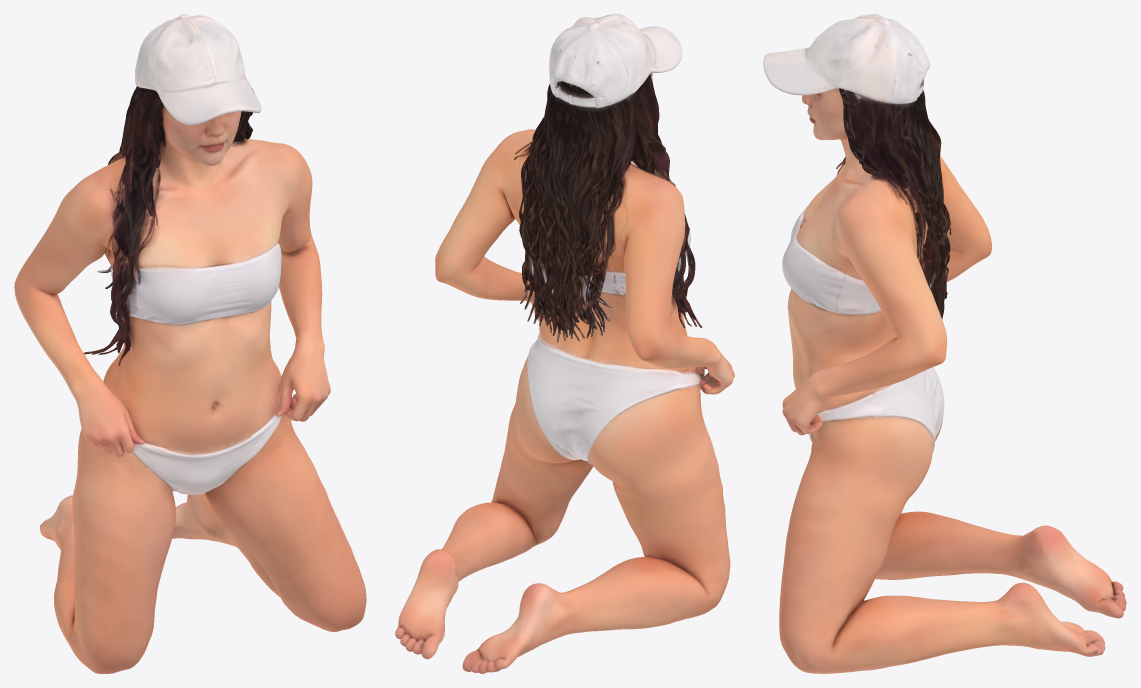
The model's file is woman_wearing_swimsuit.glb.
3 renders of one model, left to right at view 1: azimuth 30°, elevation 25°; view 2: azimuth 150°, elevation 25°; view 3: azimuth 270°, elevation 25°, orthographic. The views are drawn at different scales.
Parts seen in each view (by area): view 1: Mesh_0_modddif_material_0_0 (×2); view 2: Mesh_0_modddif_material_0_0 (×2); view 3: Mesh_0_modddif_material_0_0 (×2).
Boxes of the visible parts, box(x1,y1,x2,y2) form: Mesh_0_modddif_material_0_0 (×2): box(14, 14, 366, 673); Mesh_0_modddif_material_0_0 (×2): box(395, 14, 734, 673); Mesh_0_modddif_material_0_0 (×2): box(763, 14, 1126, 673).
Bounding box in the file's own units: 0.4616 × 1 × 0.5494.
1 material, 1 textured.
